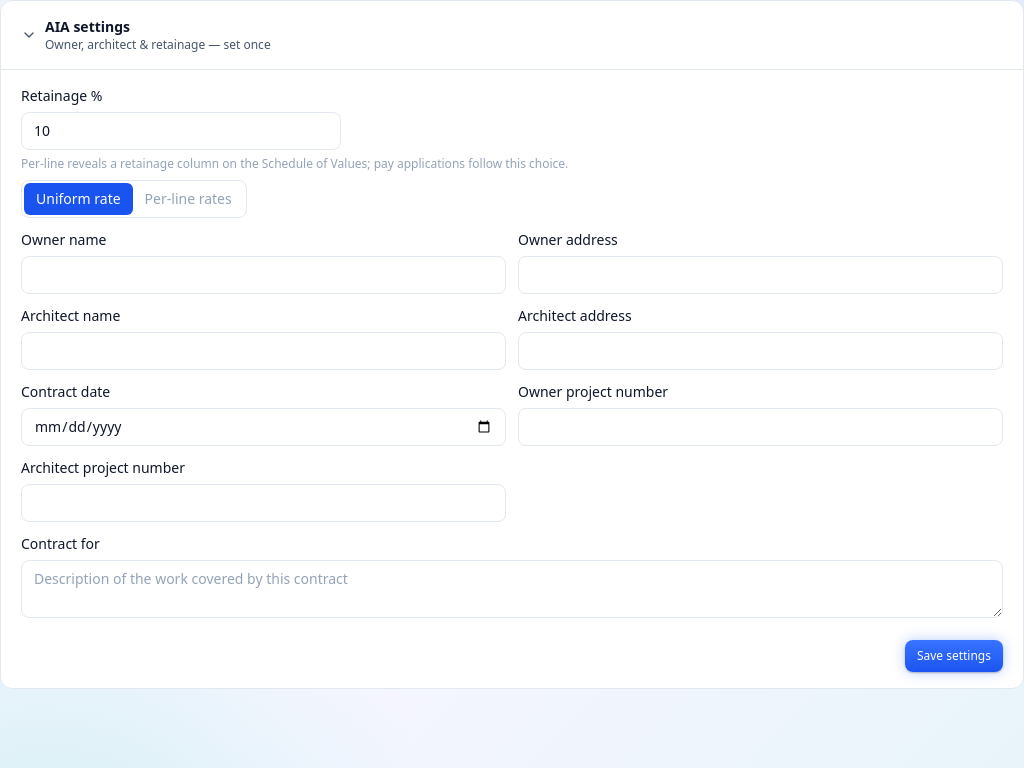
AiaSettingsForm — retainage mode change › cancelling the confirm abandons the save entirely
Click the button "Per-line rates" at [188, 199], box [133, 183, 244, 215]
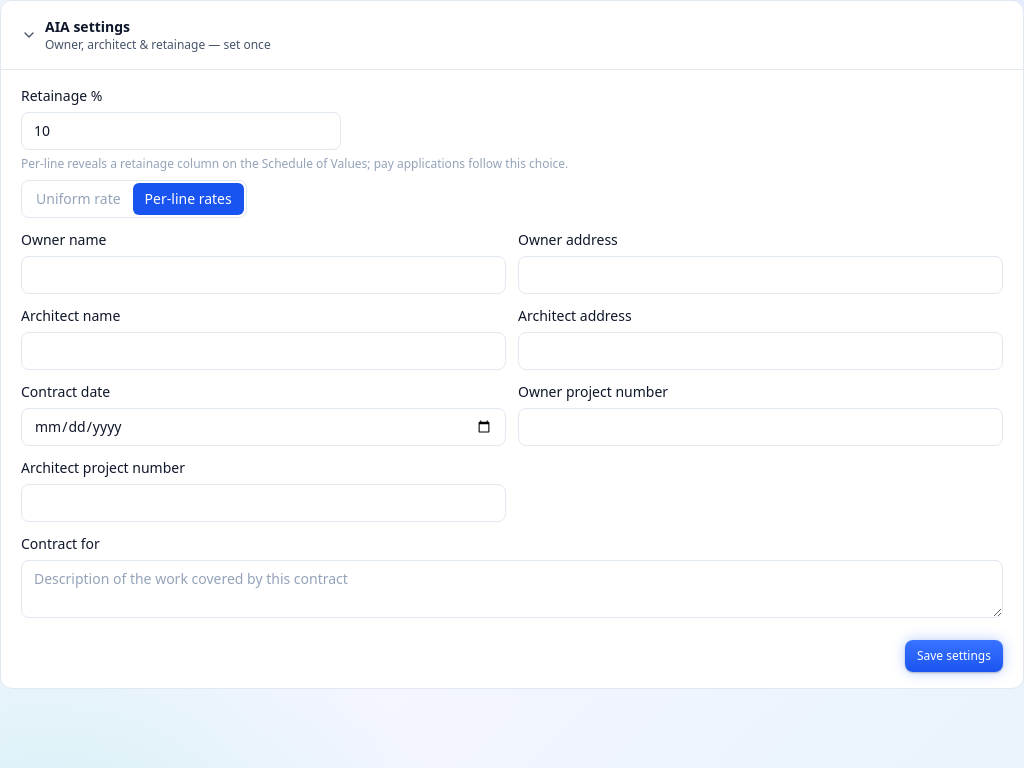
Click the button "Save settings" at [954, 656], box [905, 640, 1003, 672]
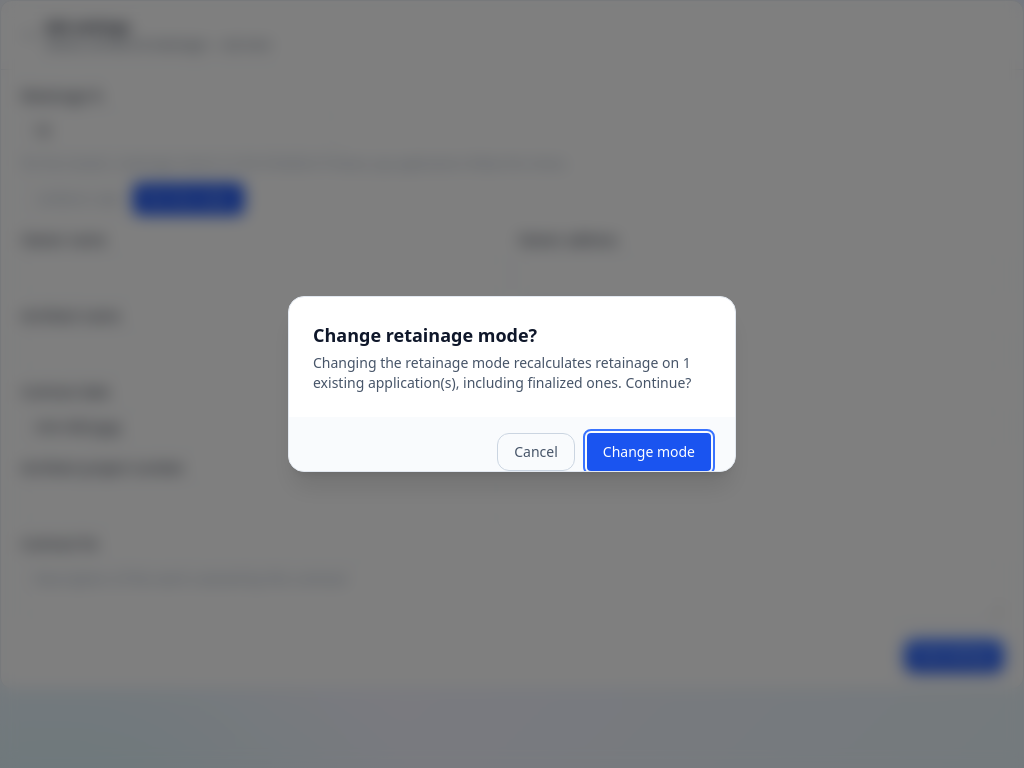
Click the button "Cancel" at [536, 452], box [497, 433, 575, 471]
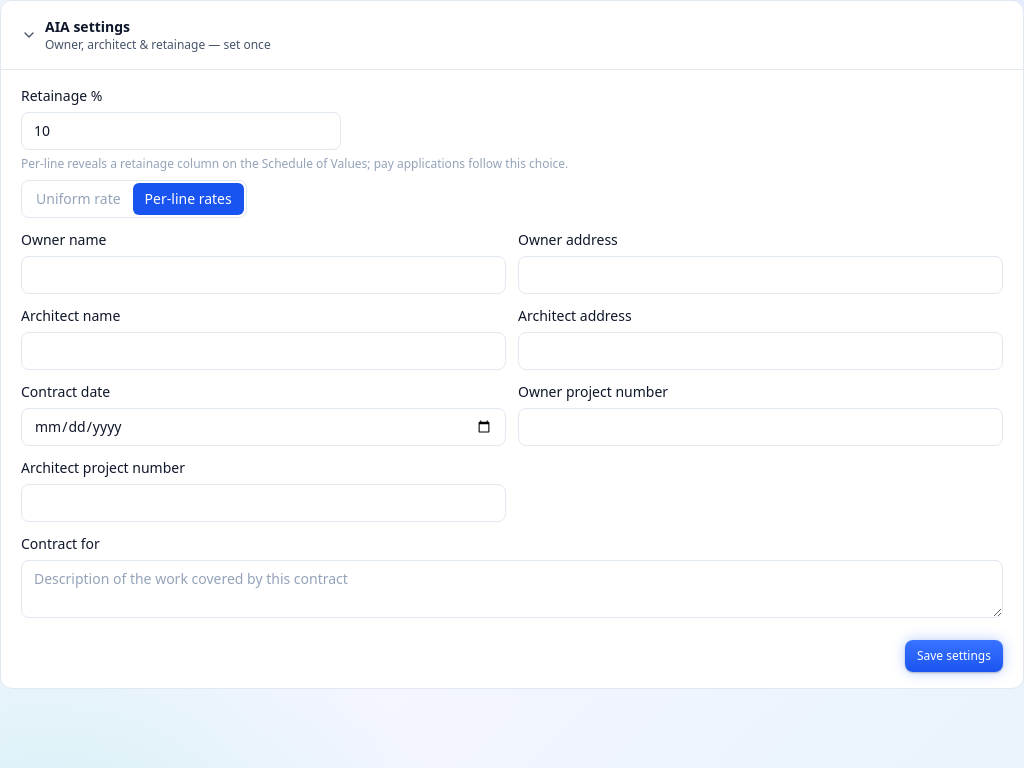
Check: the text "recalculates retainage" is gone
